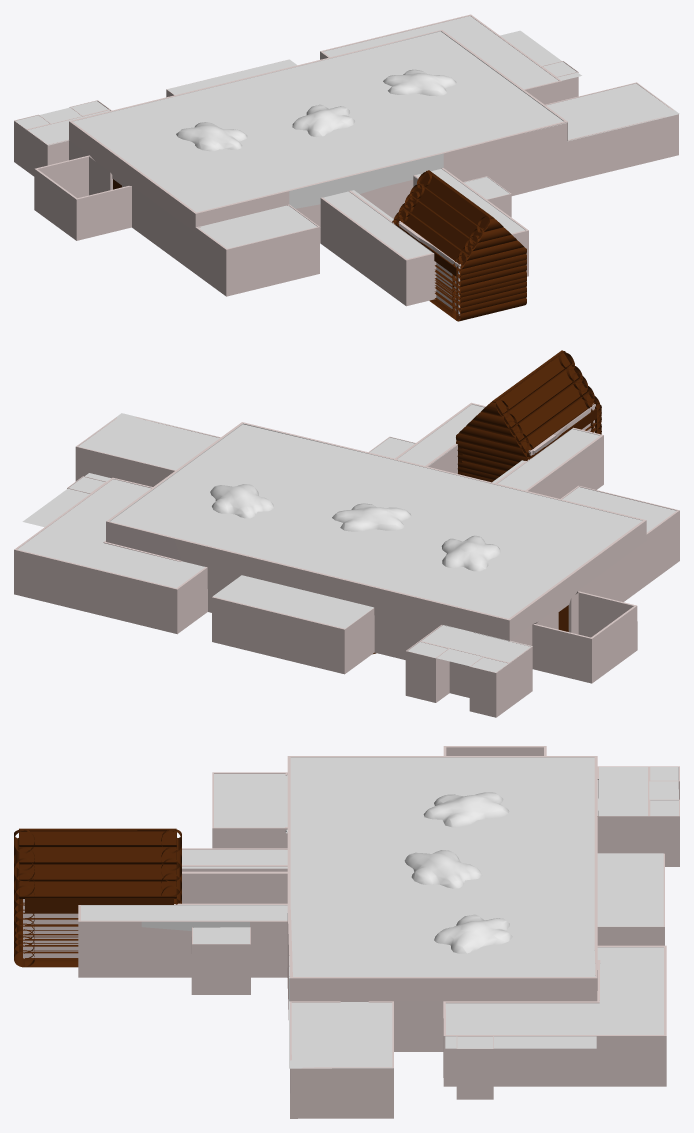
The model's file is mapfärg test.fbx.
3 views of the same model, one above another, from view 1: azimuth 30°, elevation 25°; view 2: azimuth 150°, elevation 25°; view 3: azimuth 270°, elevation 25° (orthographic). The views are drawn at different scales.
Parts seen in each view (by area): view 1: ROOF, Plane, Cylinder, Mball.002, Mball.003, Mball.001; view 2: ROOF, Plane, Cylinder, Mball.001, Mball.002, Mball.003; view 3: ROOF, Plane, Cylinder, Mball.003, Mball.001, Mball.002.
Part boxes in pixels (<box>): ROOF: <box>16,16,679,258</box>; Plane: <box>14,14,678,315</box>; Cylinder: <box>392,170,526,321</box>; Mball.002: <box>383,69,456,96</box>; Mball.003: <box>176,122,247,151</box>; Mball.001: <box>292,104,354,137</box>; ROOF: <box>17,404,676,672</box>; Plane: <box>14,402,679,717</box>; Cylinder: <box>456,350,601,482</box>; Mball.001: <box>332,503,411,531</box>; Mball.002: <box>210,484,273,518</box>; Mball.003: <box>441,535,500,571</box>; ROOF: <box>81,757,678,1068</box>; Plane: <box>23,746,679,1118</box>; Cylinder: <box>14,828,181,967</box>; Mball.003: <box>423,792,509,827</box>; Mball.001: <box>404,850,482,888</box>; Mball.002: <box>434,914,512,953</box>.
Size of the model in its own units: 8592 by 1470 by 7499.
